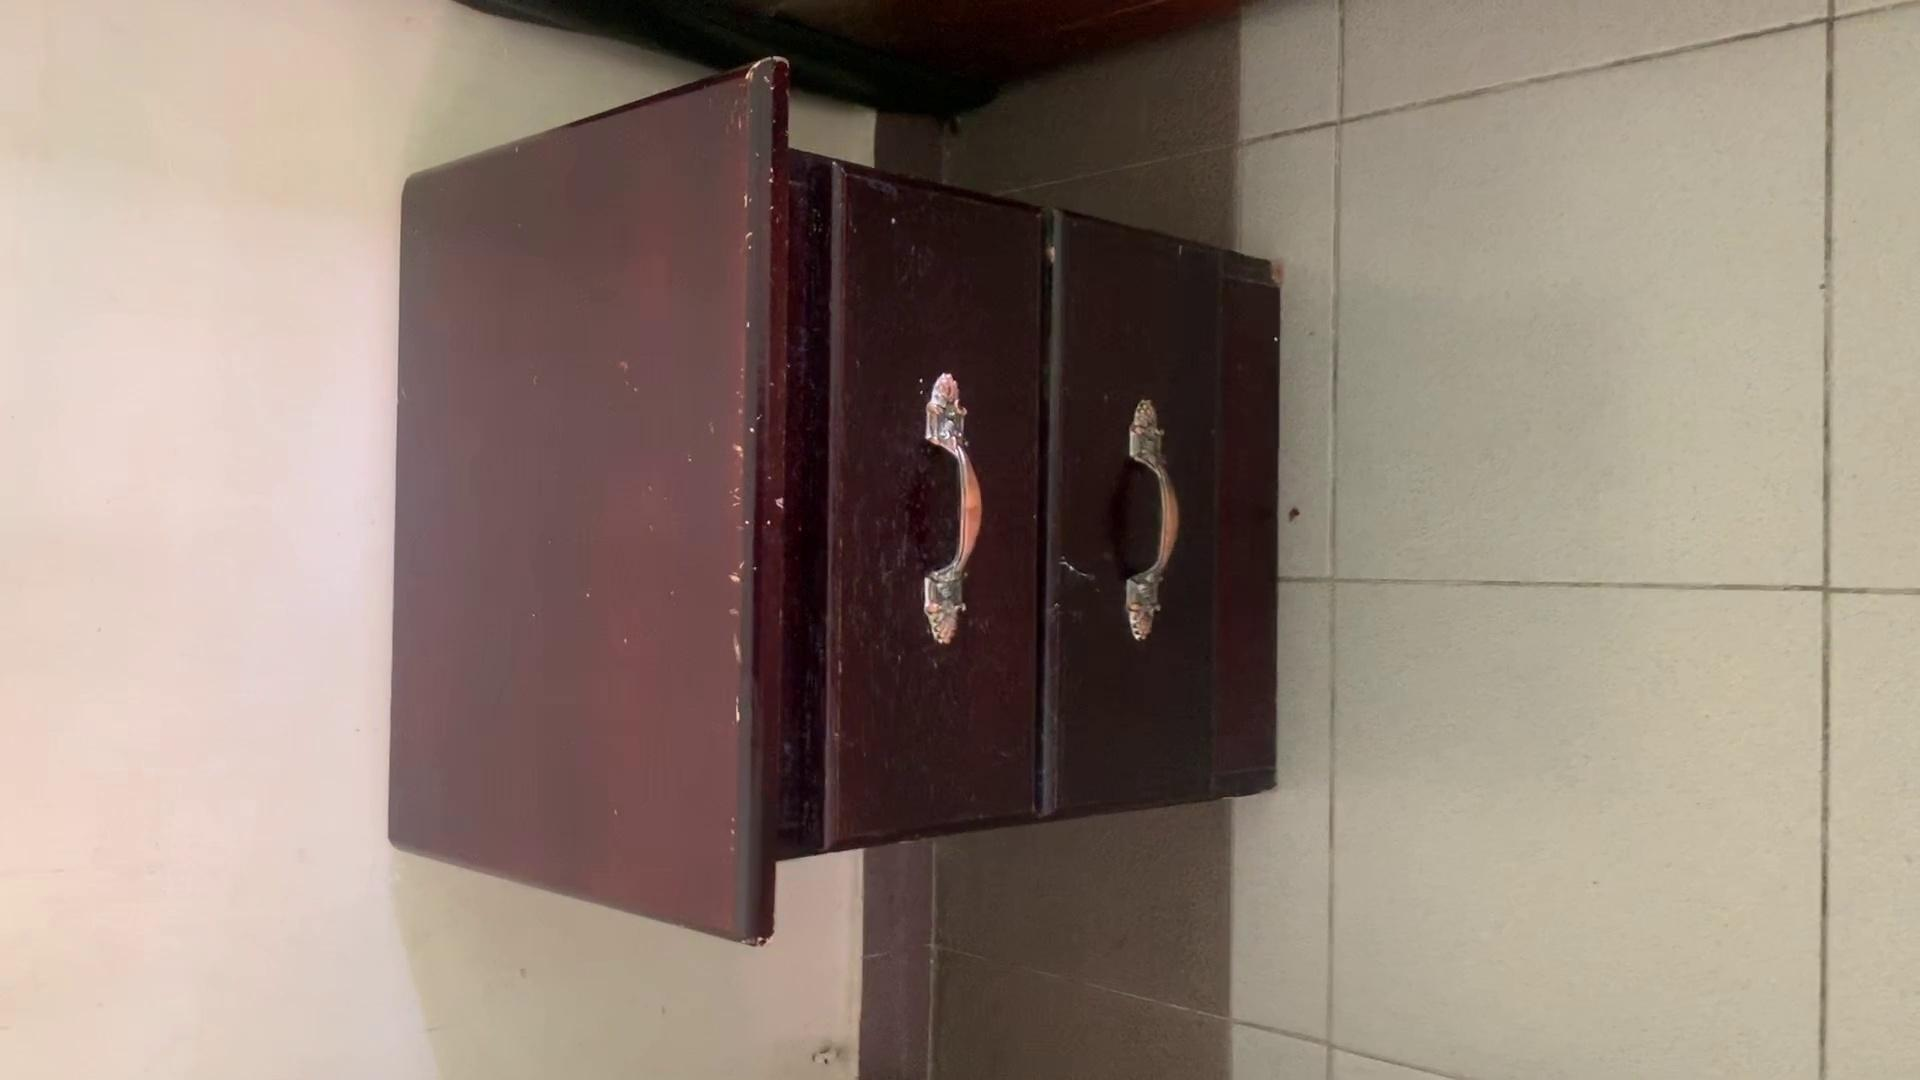cabinet_door: (825, 194, 1036, 832), (1060, 244, 1242, 812)
handle: (911, 364, 993, 658), (1112, 384, 1189, 650)
